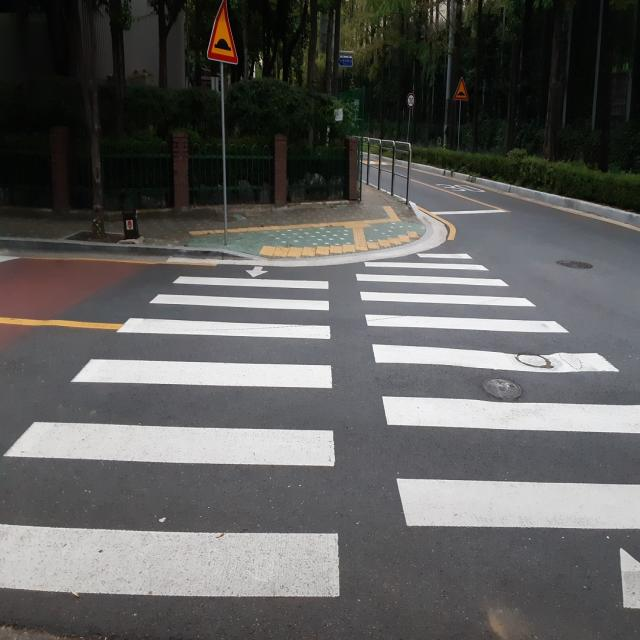횡단보도: (0, 251, 640, 612)
